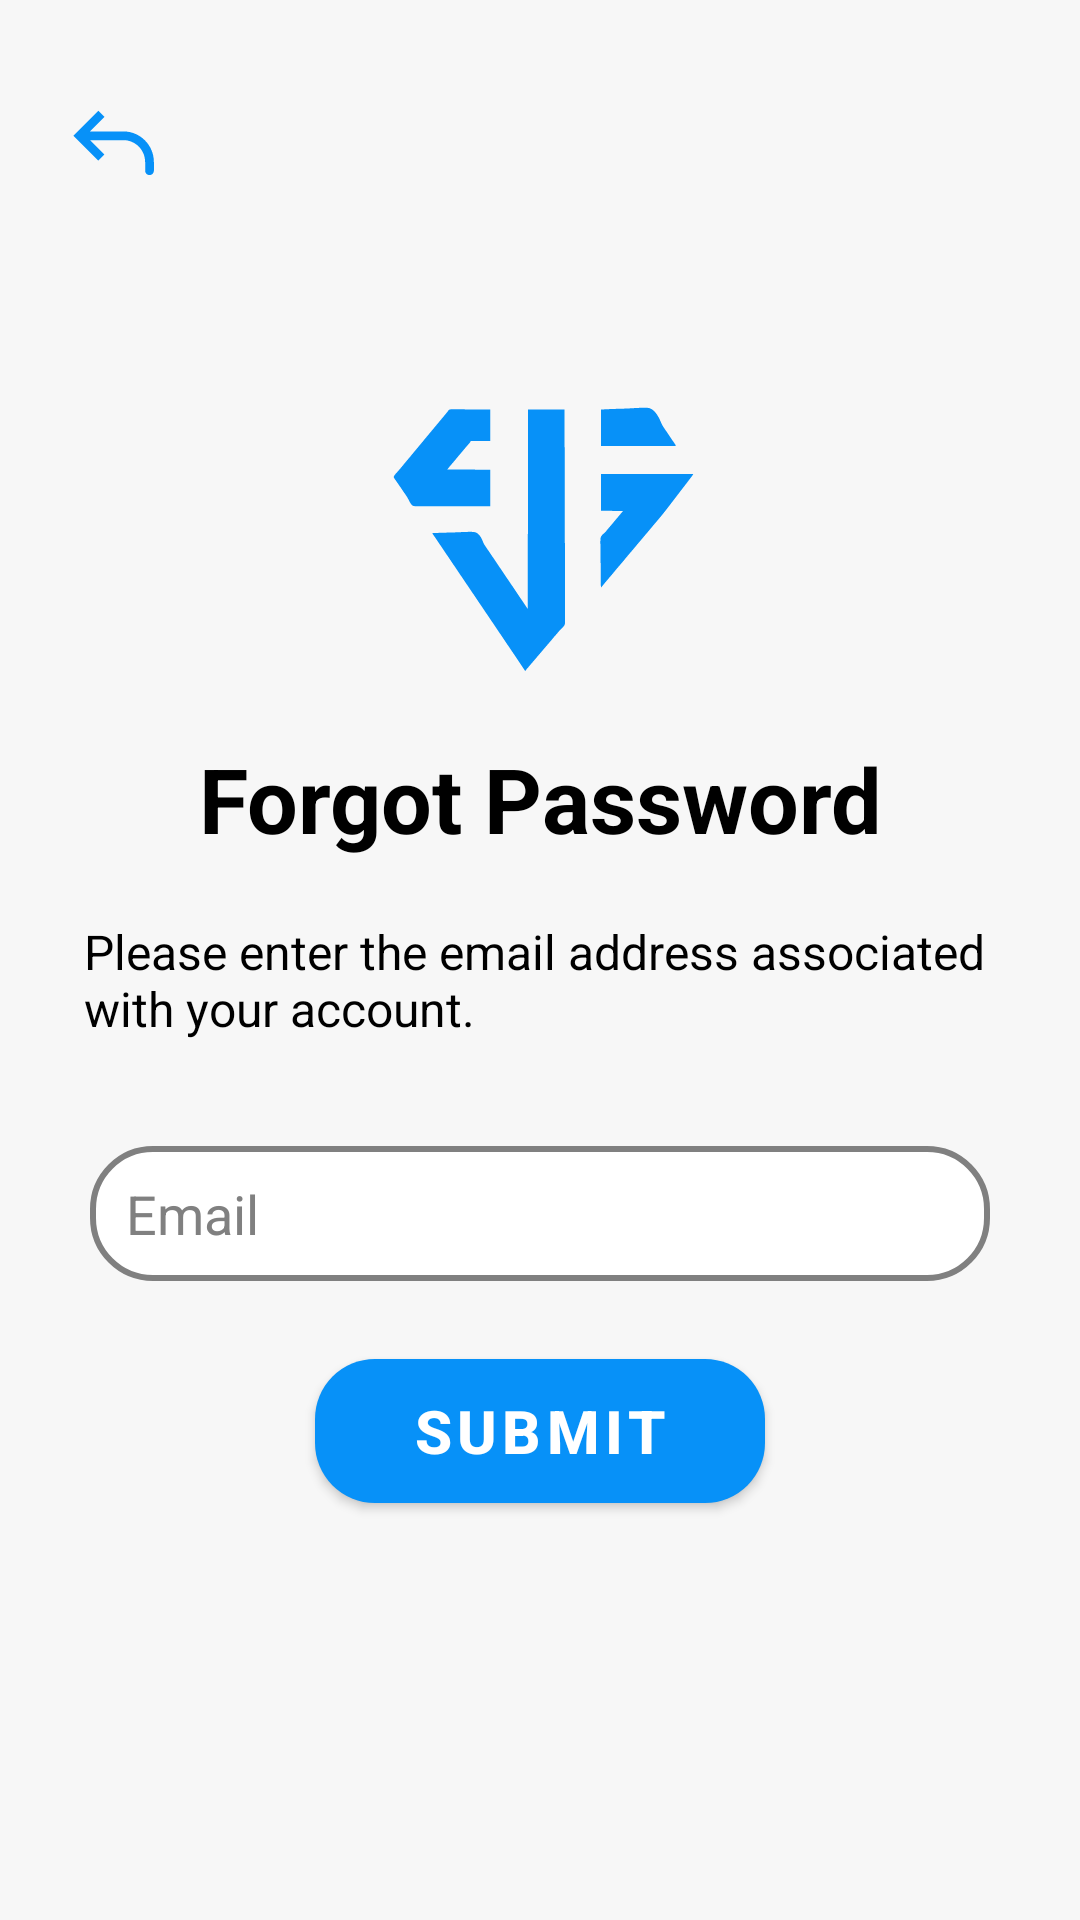

Where icons sit on this 1080px×1920px app screen, as bbox(x1, y1, x2, y2):
back: bbox(73, 111, 154, 175)
